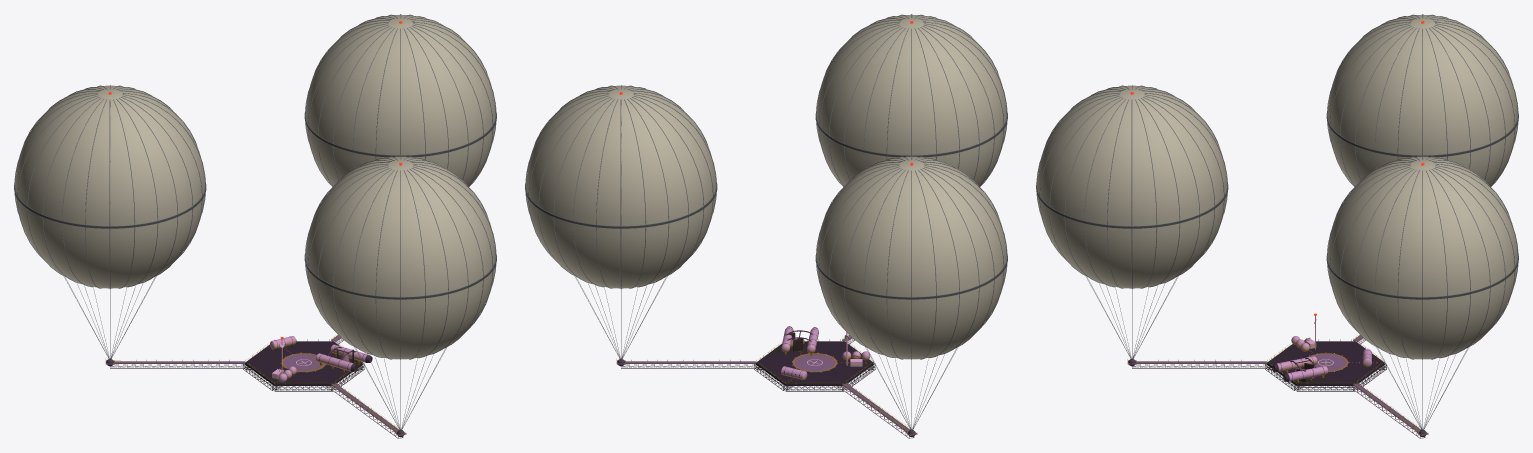
File: station.glb
3 renders of one model, left to right at view 1: azimuth 30°, elevation 25°; view 2: azimuth 150°, elevation 25°; view 3: azimuth 270°, elevation 25°, orthographic.
Parts seen in each view (by area): view 1: envelopes__m, deck__m, arms__m, cables__m, spare_booster__m, modules__m; view 2: envelopes__m, deck__m, arms__m, cables__m, modules__m, spare_booster__m; view 3: envelopes__m, deck__m, arms__m, cables__m, spare_booster__m, modules__m.
Part boxes in pixels (left/top/right/bottom): envelopes__m: left=14, top=14, right=496, bottom=359; deck__m: left=243, top=341, right=364, bottom=391; arms__m: left=105, top=334, right=406, bottom=438; cables__m: left=63, top=276, right=446, bottom=430; spare_booster__m: left=316, top=344, right=372, bottom=371; modules__m: left=270, top=336, right=353, bottom=382; envelopes__m: left=525, top=14, right=1007, bottom=359; deck__m: left=754, top=341, right=875, bottom=391; arms__m: left=616, top=334, right=917, bottom=438; cables__m: left=574, top=276, right=957, bottom=430; modules__m: left=781, top=332, right=870, bottom=381; spare_booster__m: left=781, top=326, right=818, bottom=353; envelopes__m: left=1036, top=14, right=1518, bottom=359; deck__m: left=1265, top=341, right=1386, bottom=391; arms__m: left=1127, top=334, right=1428, bottom=438; cables__m: left=1085, top=276, right=1469, bottom=430; spare_booster__m: left=1272, top=356, right=1328, bottom=381; modules__m: left=1291, top=313, right=1371, bottom=381.
Bounding box in the file's own units: 305 × 176 × 279.
